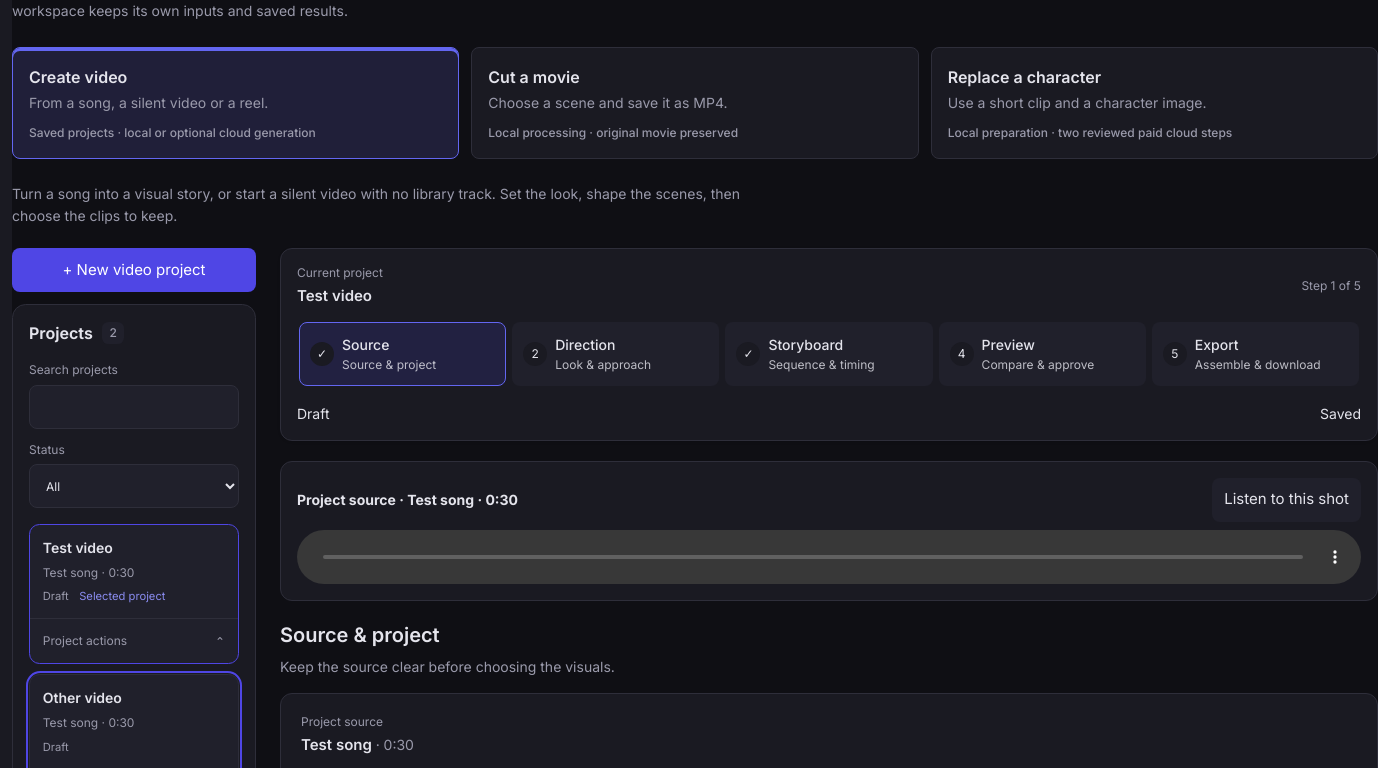
Test: keeps user-moved focus when another project finishes loading
(page scrolled)
Click the button "Other video Test song · 0:30 Draft". click: x=134, y=722
box: [30,675,238,767]
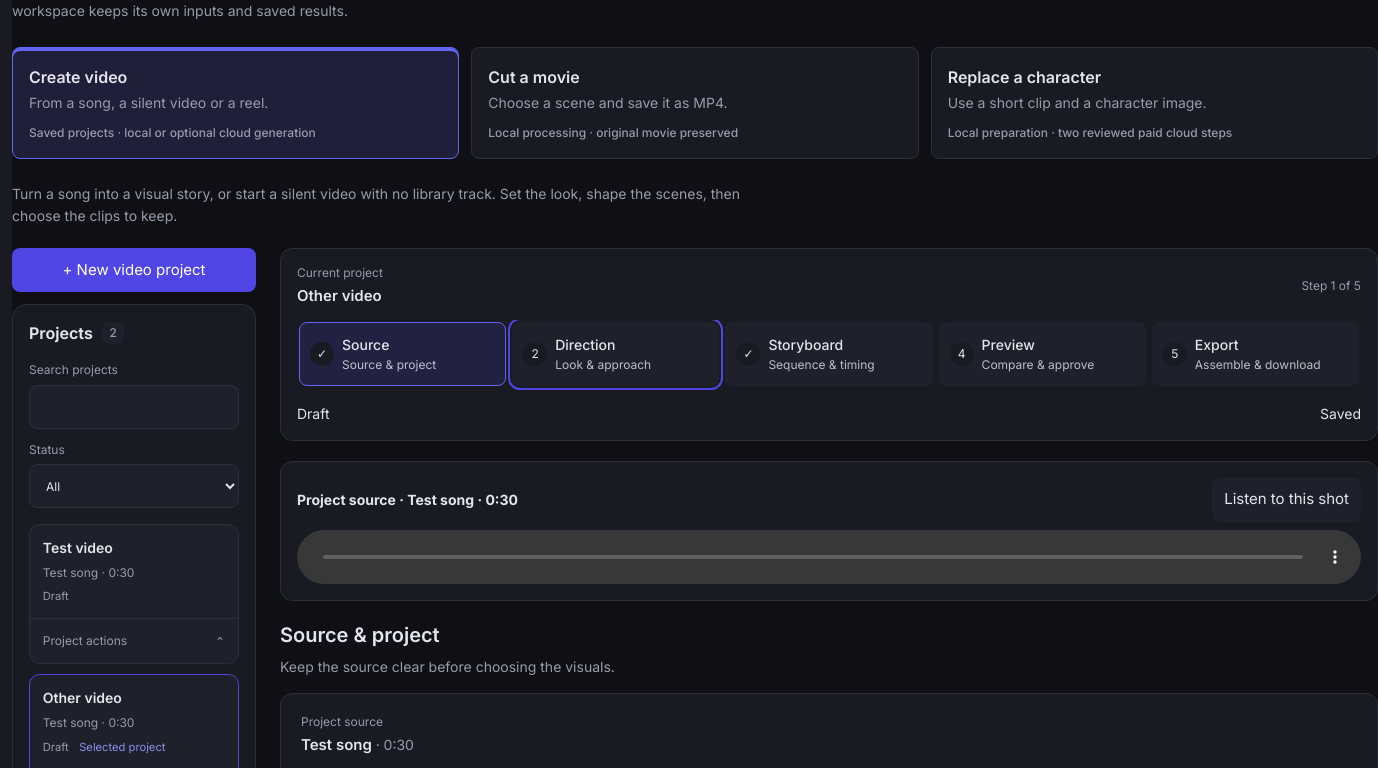
Expected: the element with test id "video-global-status" shows "Other video", [297,286,382,305]
